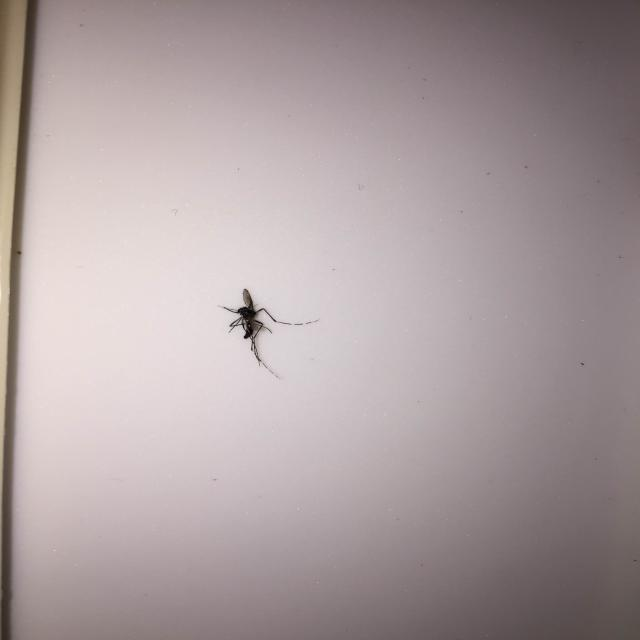albopictus: (216, 278, 318, 378)
